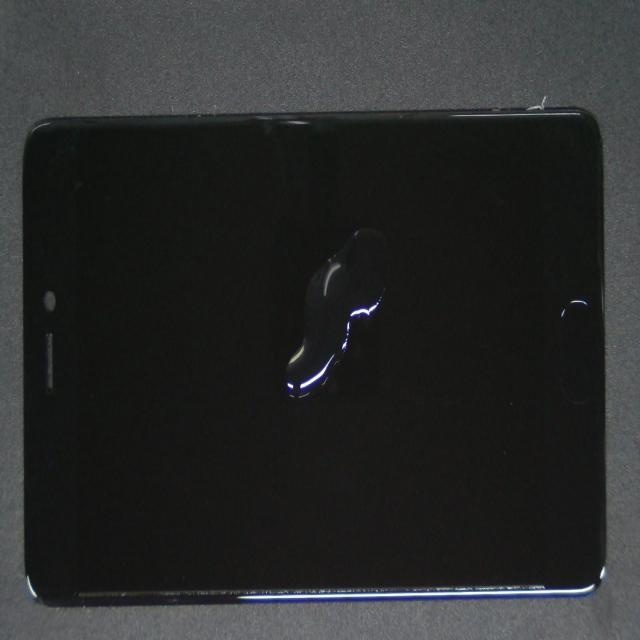oil: (161, 220, 526, 534)
